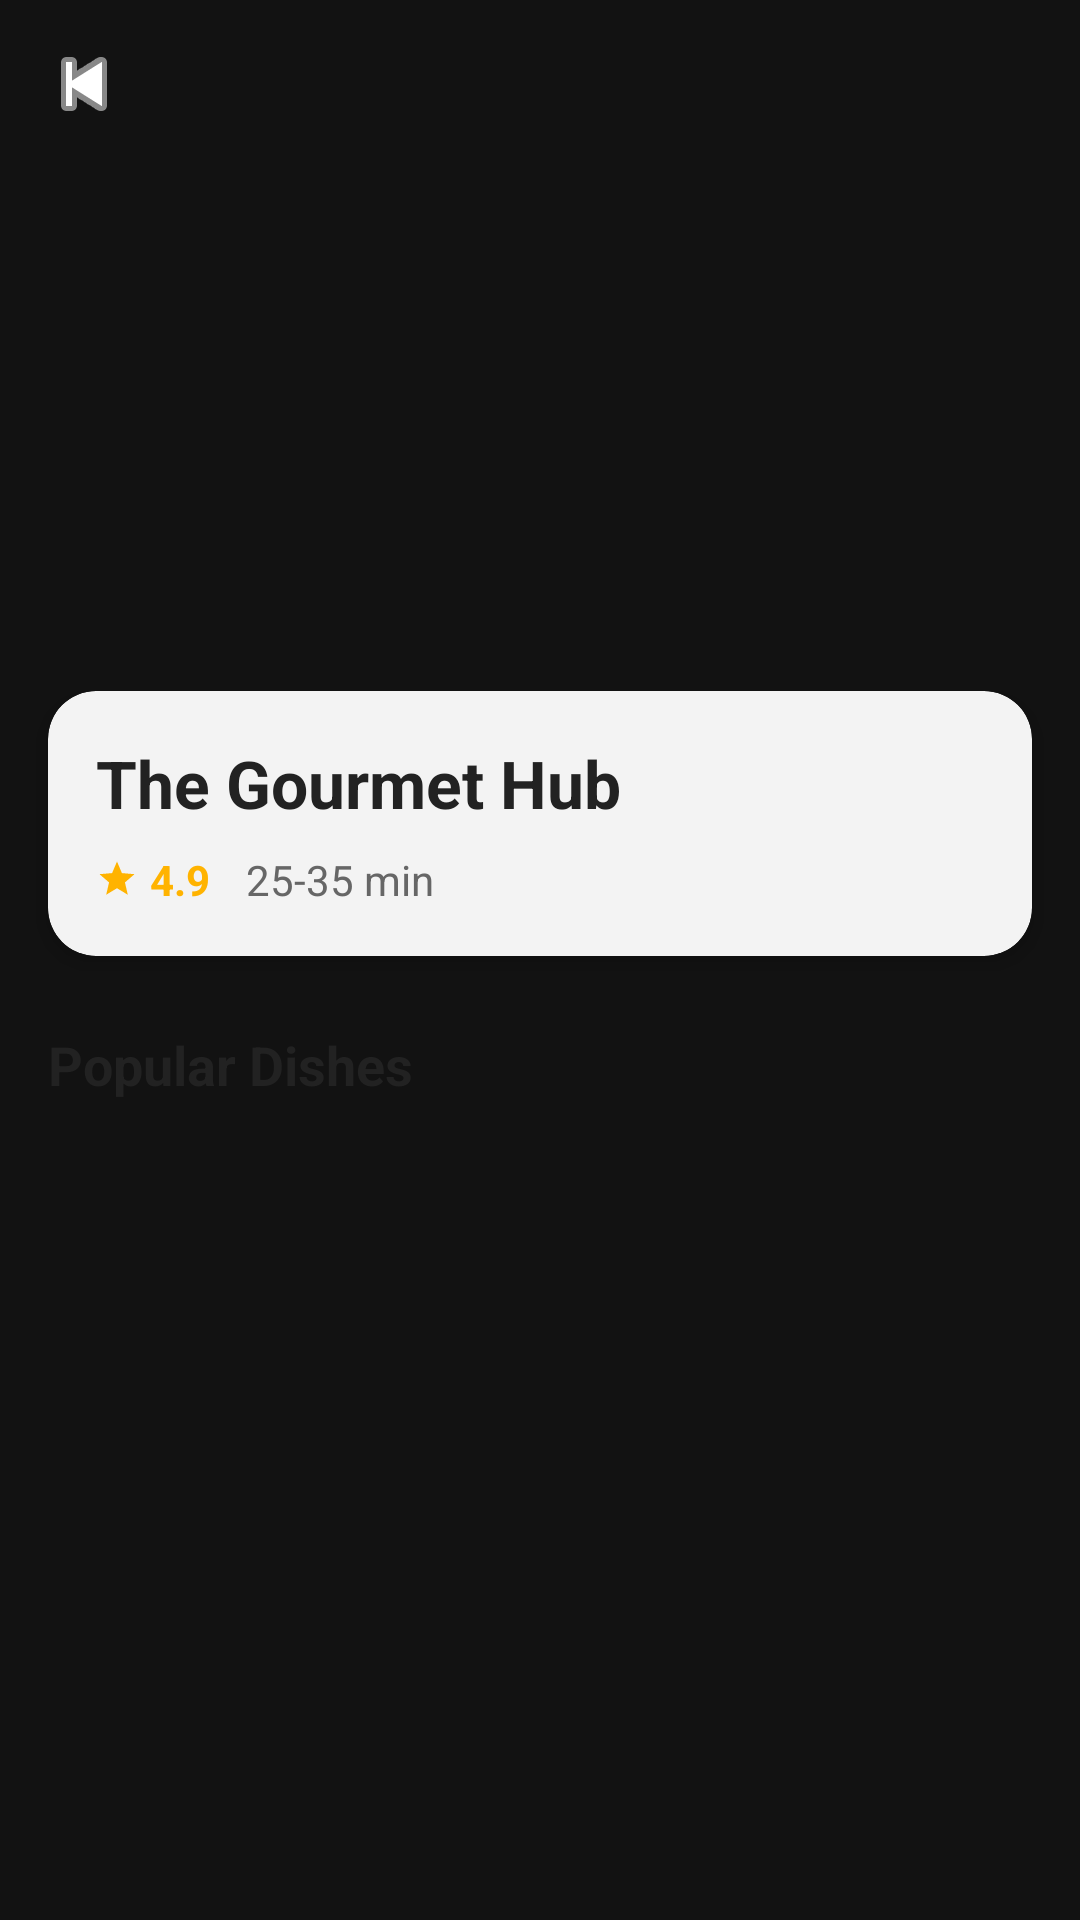

Screen size 1080*1920. Icon name, then its center in pixels as (x=x, y=y):
star: (x=117, y=878)
